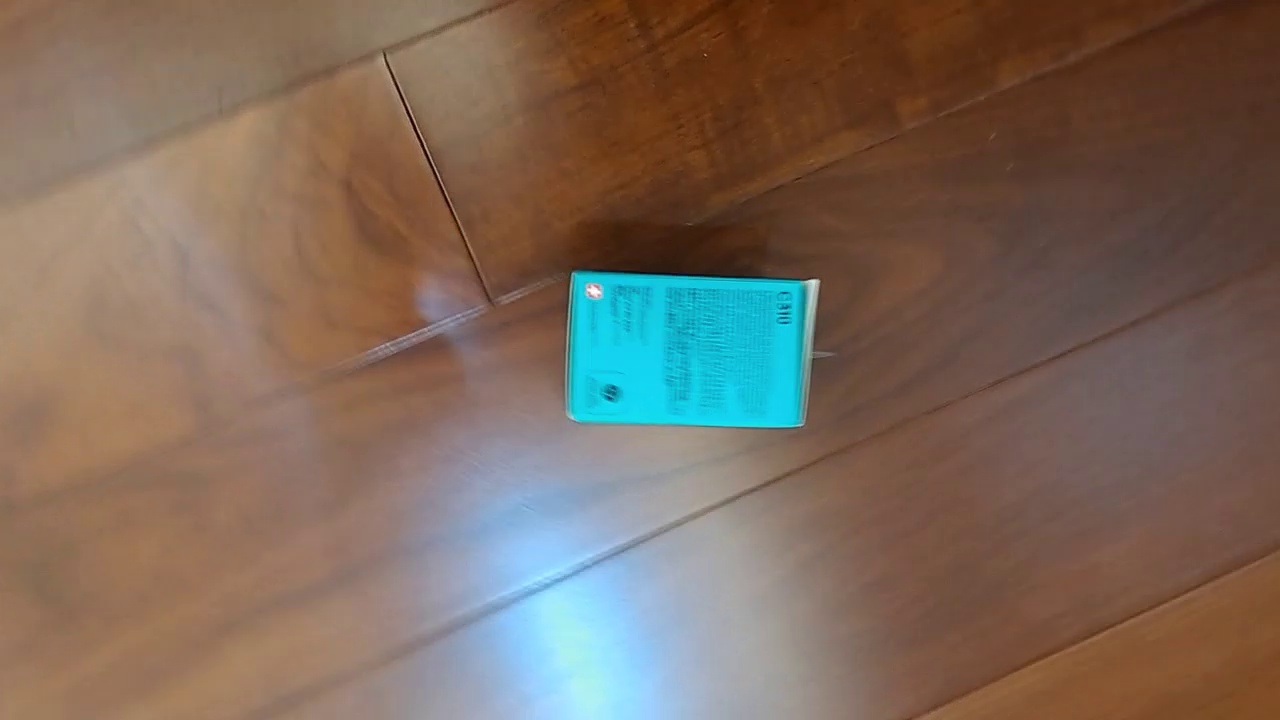webcam: (563, 269, 821, 429)
